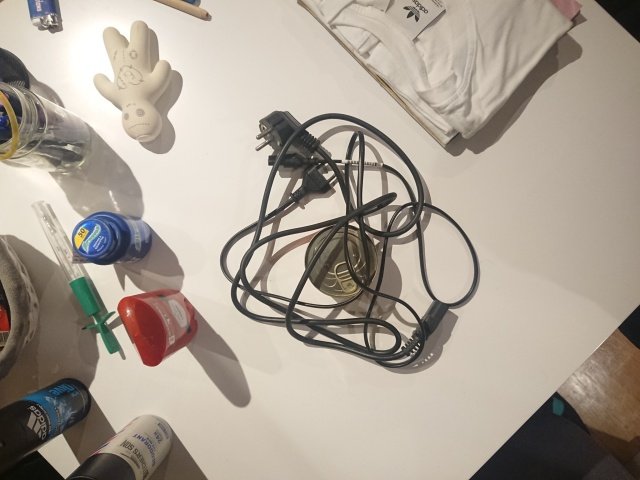Podravka Luncheon Meat 150g: (302, 222, 381, 299)
